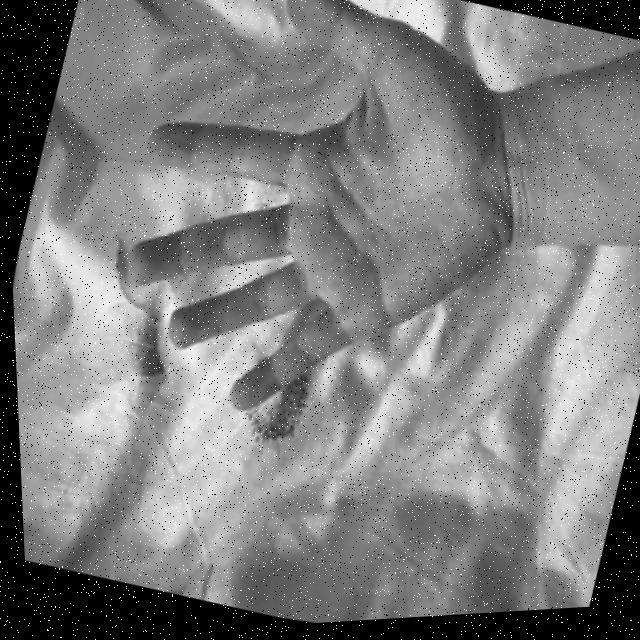no-gloves: (78, 0, 622, 496)
